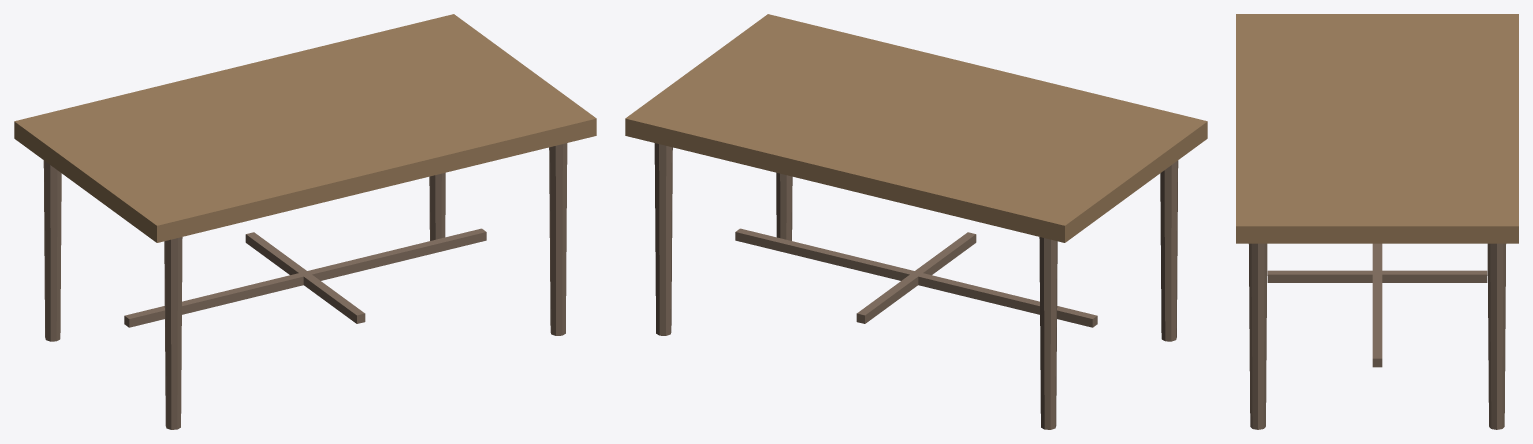
Rendered from table.glb.
3 renders of one model, left to right at view 1: azimuth 30°, elevation 25°; view 2: azimuth 150°, elevation 25°; view 3: azimuth 270°, elevation 25°, orthographic.
Visible parts, largest first — view 1: part_0, part_5, part_3, part_4, part_1, part_6, part_2; view 2: part_0, part_5, part_1, part_2, part_3, part_6, part_4; view 3: part_0, part_2, part_4, part_6, part_5.
Part boxes in pixels (x1,y1,x2,y2): part_0: (14,14,596,242); part_5: (124,228,486,327); part_3: (164,237,182,429); part_4: (549,143,567,335); part_1: (43,160,61,341); part_6: (245,232,365,323); part_2: (429,172,445,240); part_0: (625,14,1207,242); part_5: (735,228,1097,327); part_1: (1039,237,1057,429); part_2: (654,143,672,335); part_3: (1160,160,1178,341); part_6: (856,232,976,323); part_4: (776,172,792,240); part_0: (1236,14,1518,243); part_2: (1487,243,1505,429); part_4: (1249,243,1267,429); part_6: (1267,270,1487,282); part_5: (1372,243,1382,367).
Bounding box in the file's own units: 1.6 × 0.75 × 0.9.
